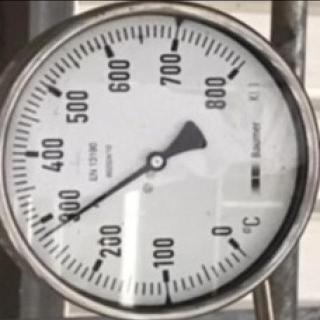gauge: (0, 1, 313, 319), (201, 57, 255, 115), (208, 209, 262, 261), (146, 149, 168, 173), (34, 232, 47, 245)
